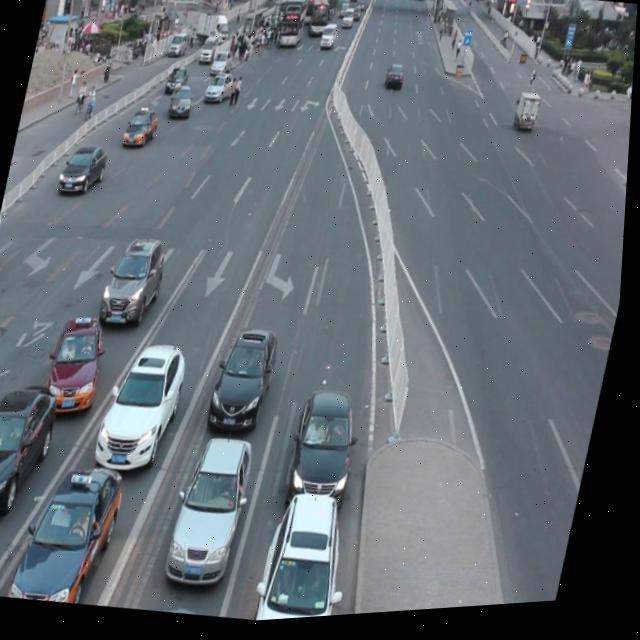car: (10, 452, 136, 613), (167, 431, 264, 595), (259, 487, 366, 625), (96, 334, 197, 479), (286, 385, 373, 520), (0, 372, 67, 529), (208, 323, 288, 441), (45, 311, 117, 423), (99, 230, 175, 334), (59, 141, 113, 200), (123, 106, 163, 154), (168, 85, 198, 123)
truck: (0, 183, 16, 268)
